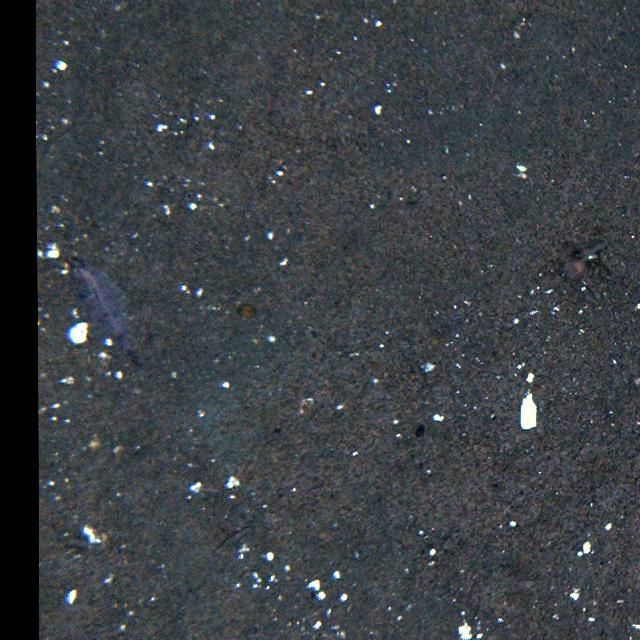flatfish: (68, 258, 150, 363)
